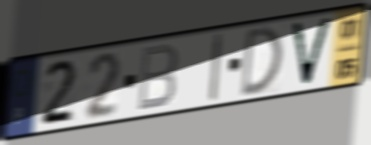2: (36, 58, 81, 128), (86, 50, 122, 123)
B: (135, 41, 180, 114)
D: (238, 23, 285, 101)
I: (207, 31, 225, 105)
V: (288, 15, 335, 89)
